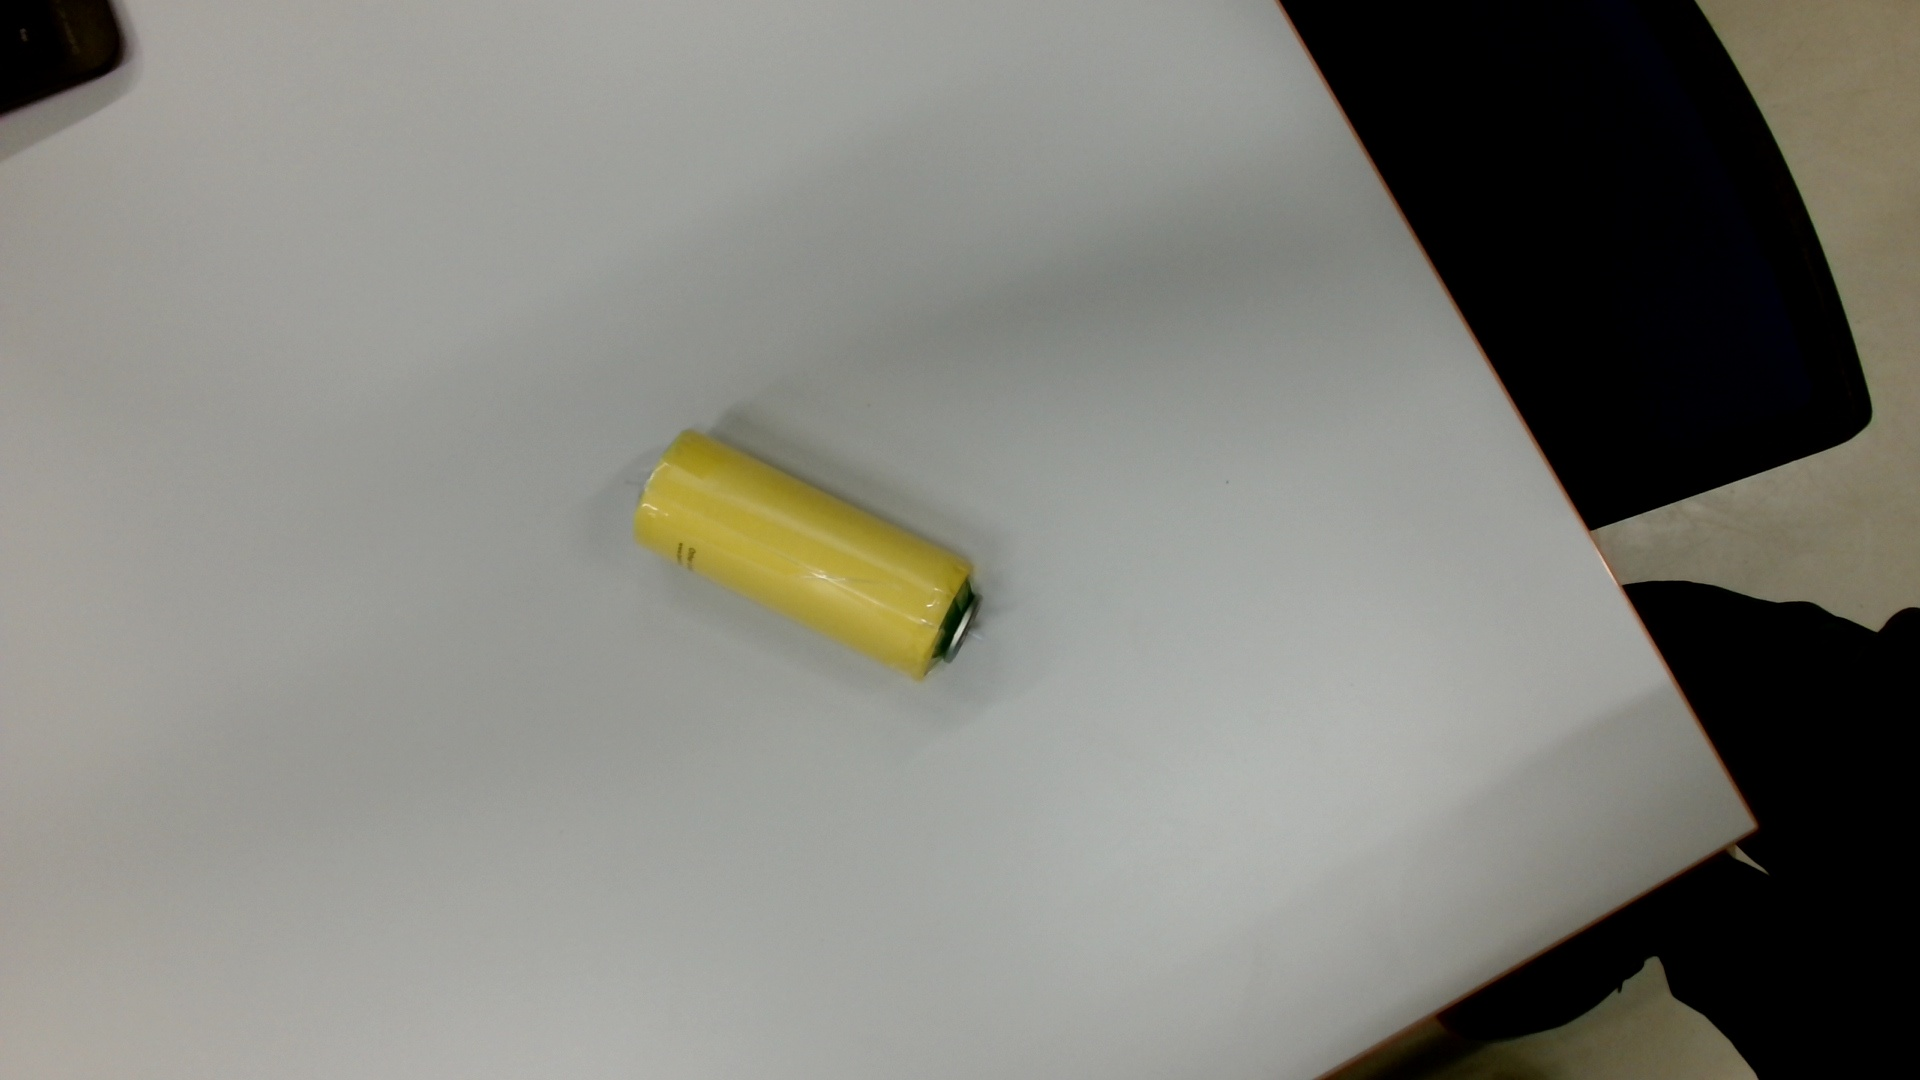Cylinder: (618, 422, 1000, 694)
